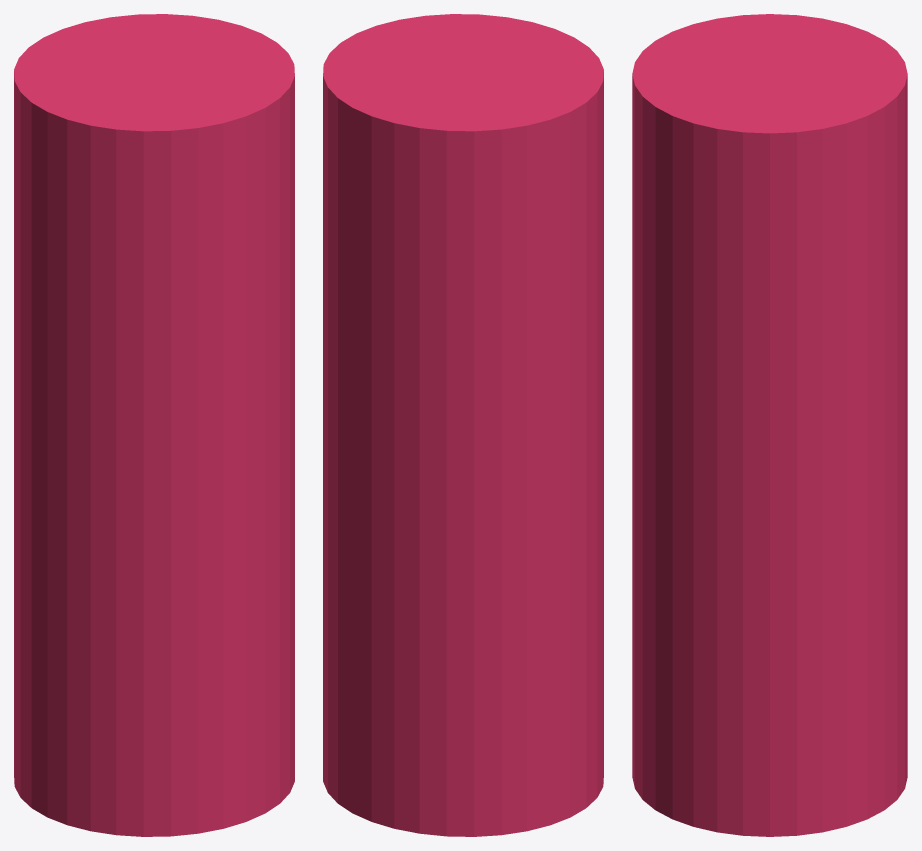
File: bullet.fbx
The picture shows the model from 3 angles, left to right: view 1: azimuth 30°, elevation 25°; view 2: azimuth 150°, elevation 25°; view 3: azimuth 270°, elevation 25°; orthographic projection.
Visible parts, largest first — view 1: Cylinder; view 2: Cylinder; view 3: Cylinder.
Boxes of the visible parts, x1,y1,x2,y2 form: Cylinder: (14,14,294,836); Cylinder: (323,14,603,836); Cylinder: (632,14,907,836).
Bounding box in the file's own units: 72.85 × 200 × 70.94.
Materials: 1 (1 with a texture image).
